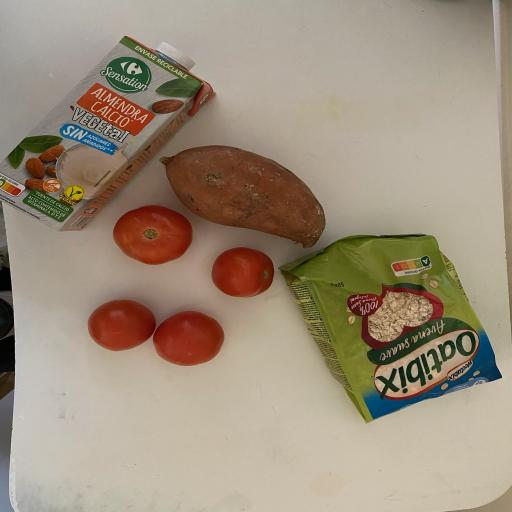almond_milk: (4, 27, 218, 239)
oats: (277, 228, 504, 427)
sweet_potato: (156, 142, 330, 251)
tomato: (111, 202, 199, 268), (150, 306, 228, 368), (84, 296, 158, 357), (210, 247, 280, 300)
